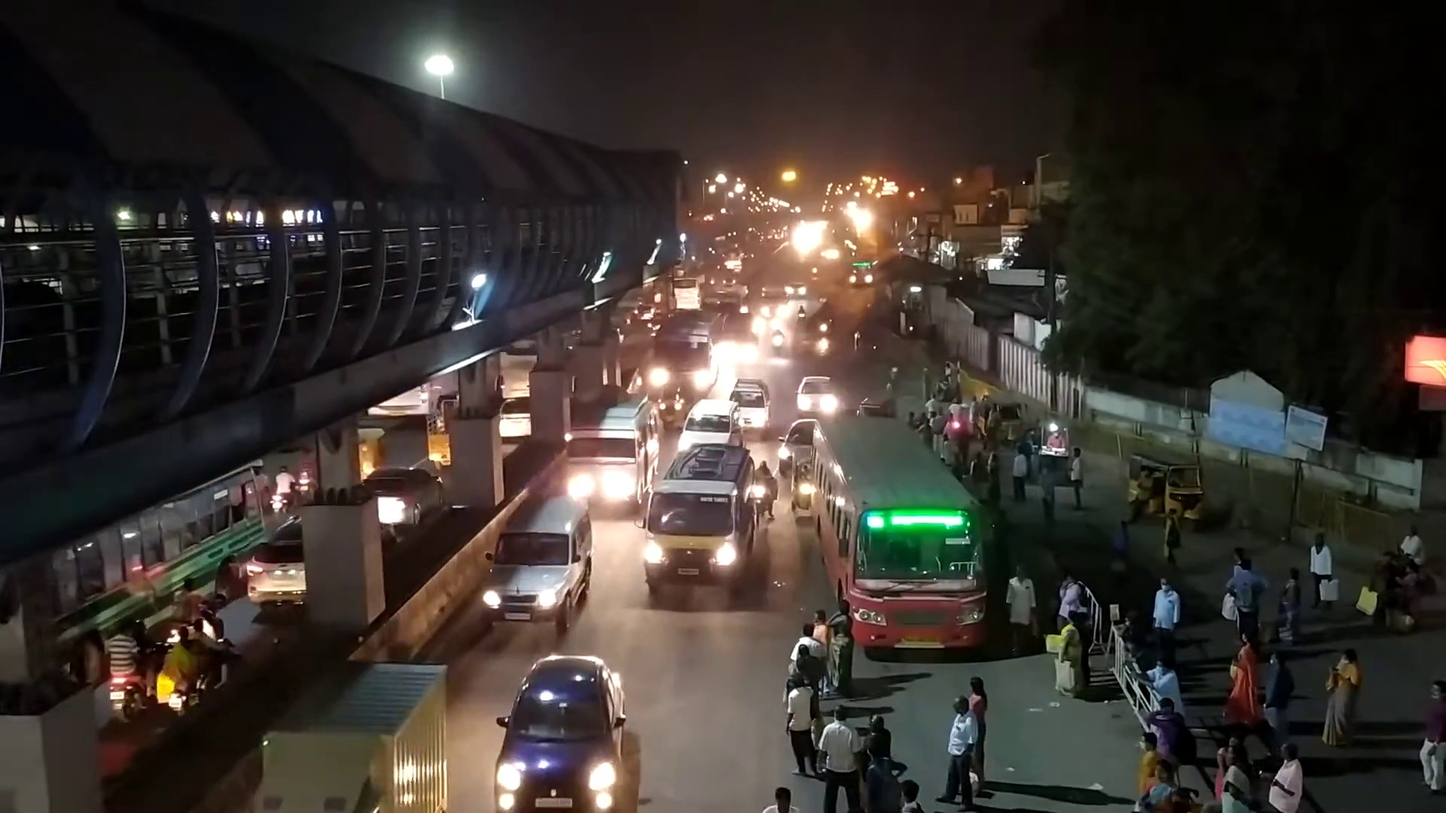driver_helmet: (129, 618, 159, 699), (755, 458, 778, 502), (943, 397, 968, 421), (275, 466, 295, 495)
driver_no_helmet: (189, 618, 235, 675), (171, 577, 224, 623)
motorcycle: (156, 617, 235, 718), (161, 569, 229, 651), (110, 618, 161, 723), (755, 456, 779, 520), (268, 464, 296, 517), (943, 397, 969, 442), (297, 462, 318, 502), (770, 326, 787, 360), (796, 304, 807, 328)
passenger_no_helmet: (162, 626, 206, 702), (109, 621, 141, 683)
